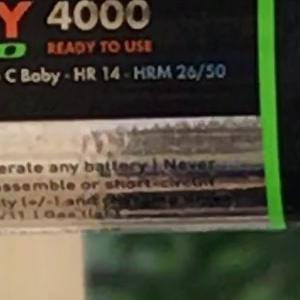keyword: (65, 59, 128, 89)
